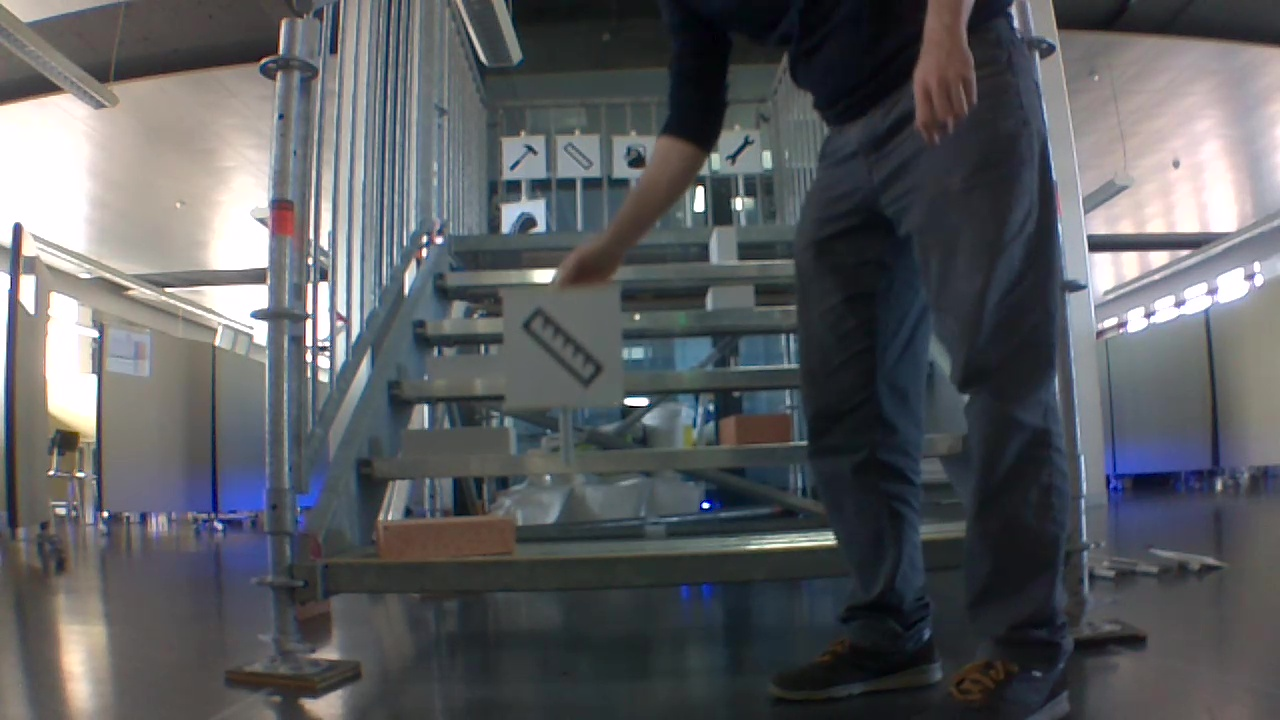brick: (374, 510, 522, 560), (401, 428, 516, 456), (701, 278, 761, 308), (722, 416, 790, 442), (706, 220, 741, 267)
bucket: (620, 142, 649, 169)
hammer: (509, 142, 537, 172)
ruler: (524, 309, 605, 387), (559, 138, 598, 173)
taco: (505, 203, 539, 238)
wrench: (727, 135, 756, 164)
